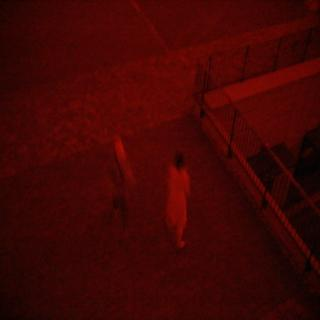person: (160, 143, 201, 267)
